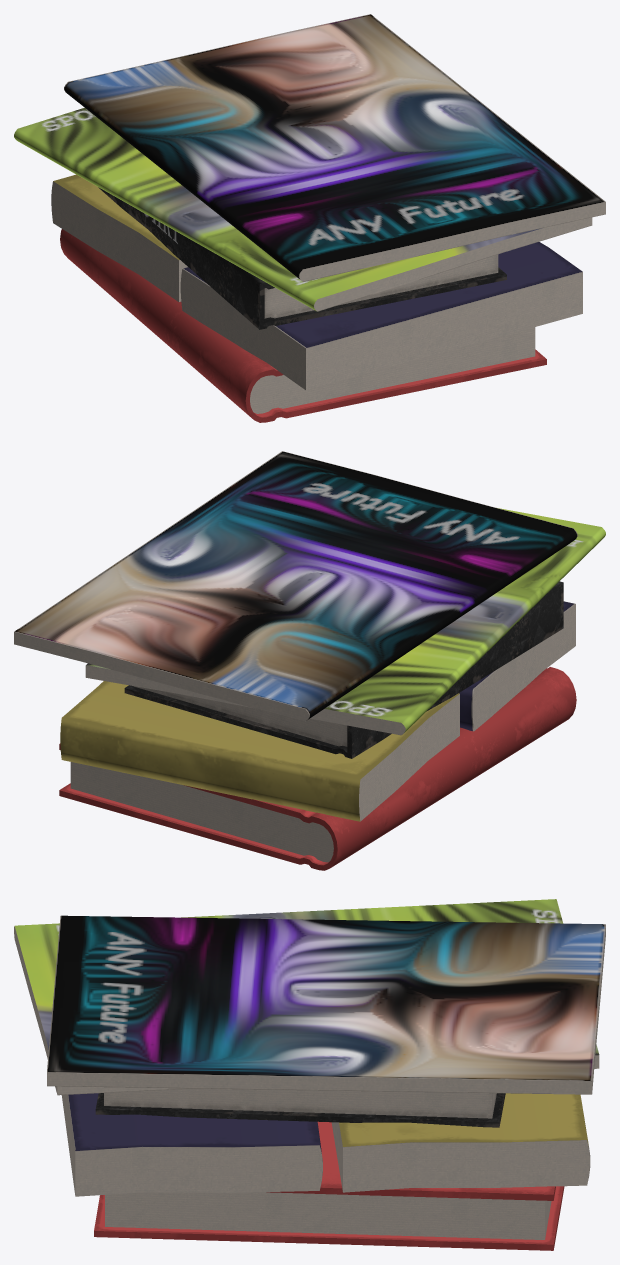
File: SM_Book_Stack_04.fbx
3 views of the same model, one above another, from view 1: azimuth 30°, elevation 25°; view 2: azimuth 150°, elevation 25°; view 3: azimuth 270°, elevation 25° (orthographic). The views are drawn at different scales.
Visible parts, largest first — view 1: SM_Book_Stack_04_LOD0; view 2: SM_Book_Stack_04_LOD0; view 3: SM_Book_Stack_04_LOD0.
Boxes of the visible parts, box(x1,y1,x2,y2) form: SM_Book_Stack_04_LOD0: box(14, 14, 605, 422); SM_Book_Stack_04_LOD0: box(14, 451, 605, 870); SM_Book_Stack_04_LOD0: box(14, 899, 605, 1250).
Bounding box in the file's own units: 32.37 × 40.95 × 14.12.
